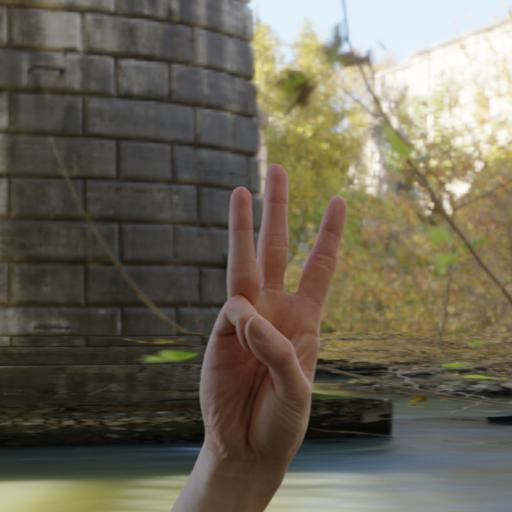W: (149, 150, 368, 512)
